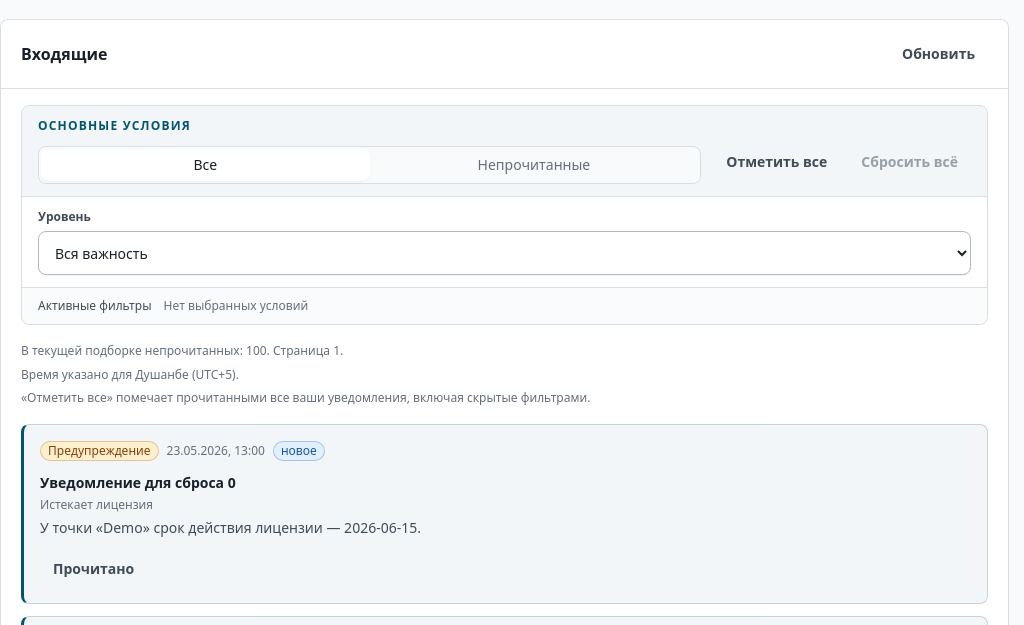
it: NotificationsPage › resets both quick filters and pagination together
Click the button "Непрочитанные". click: (534, 165)
box: x1=370 y1=149 x2=698 y2=181
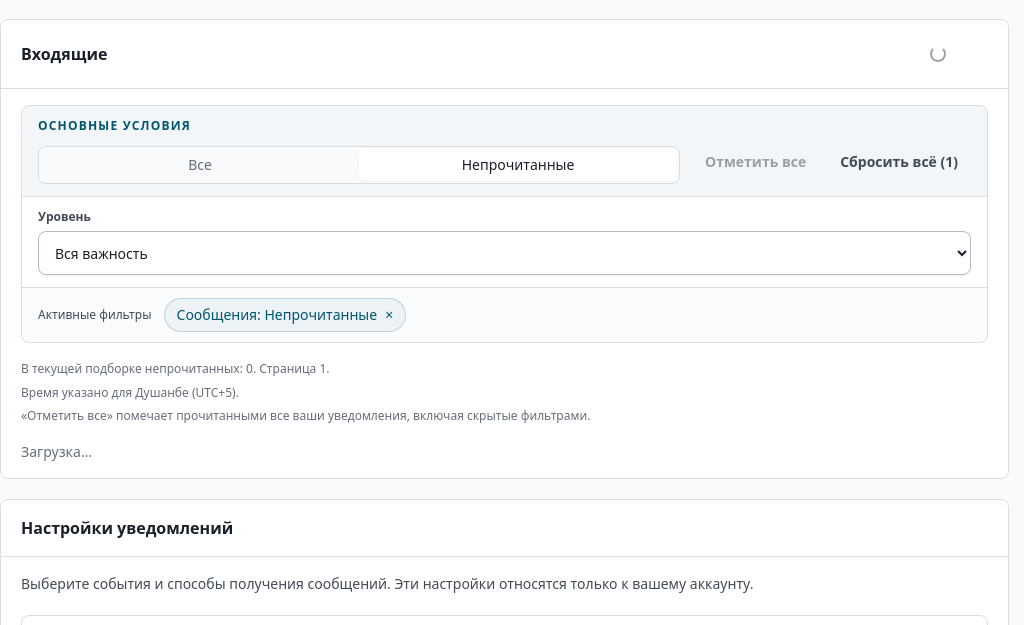
Select "Критическое" in the dropdown labelled "Уровень". click: (504, 253)
box: x1=38 y1=231 x2=971 y2=275
(page scrolled)
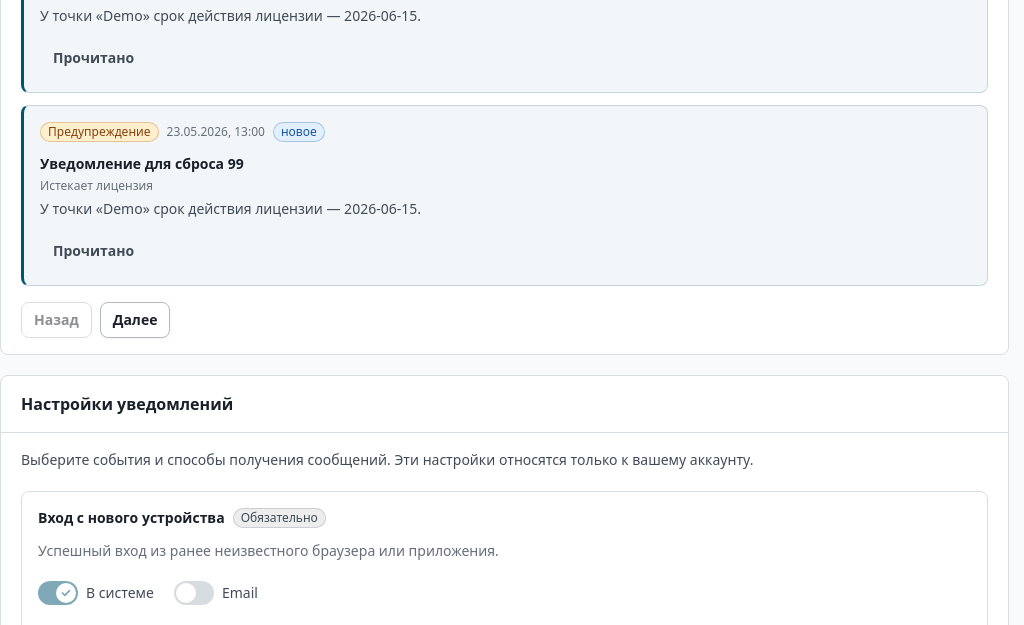
Check: the button "Далее" is enabled
Click the button "Далее". click: (135, 320)
box: x1=100 y1=302 x2=170 y2=338
(page scrolled)
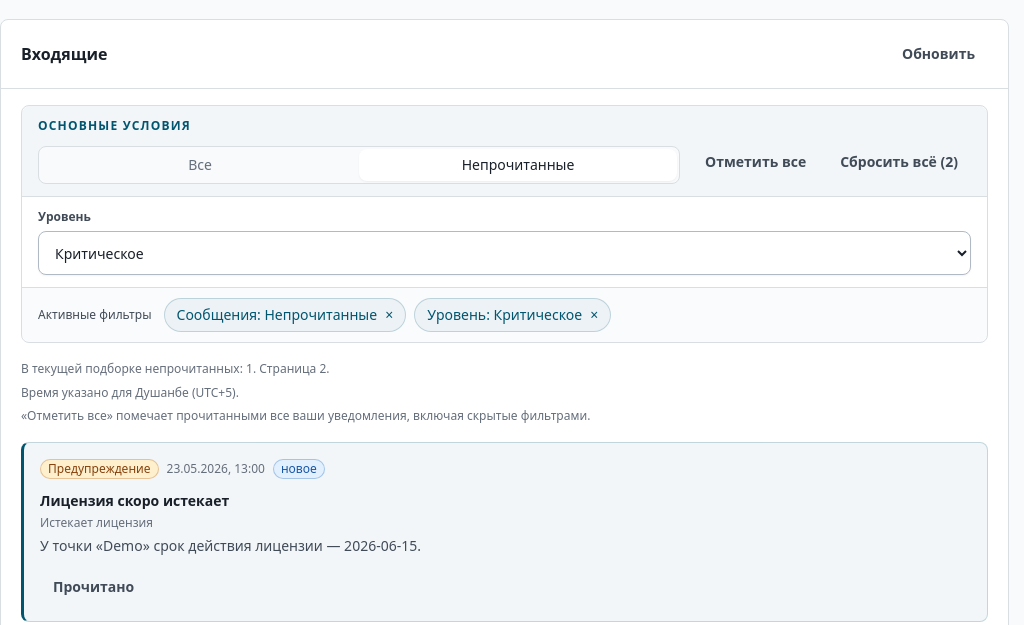
Check: the text "Лицензия скоро истекает" is shown, box x1=40 y1=490 x2=229 y2=510
Click the button "Сбросить всё (2)". click: (899, 162)
box: x1=827 y1=140 x2=971 y2=184
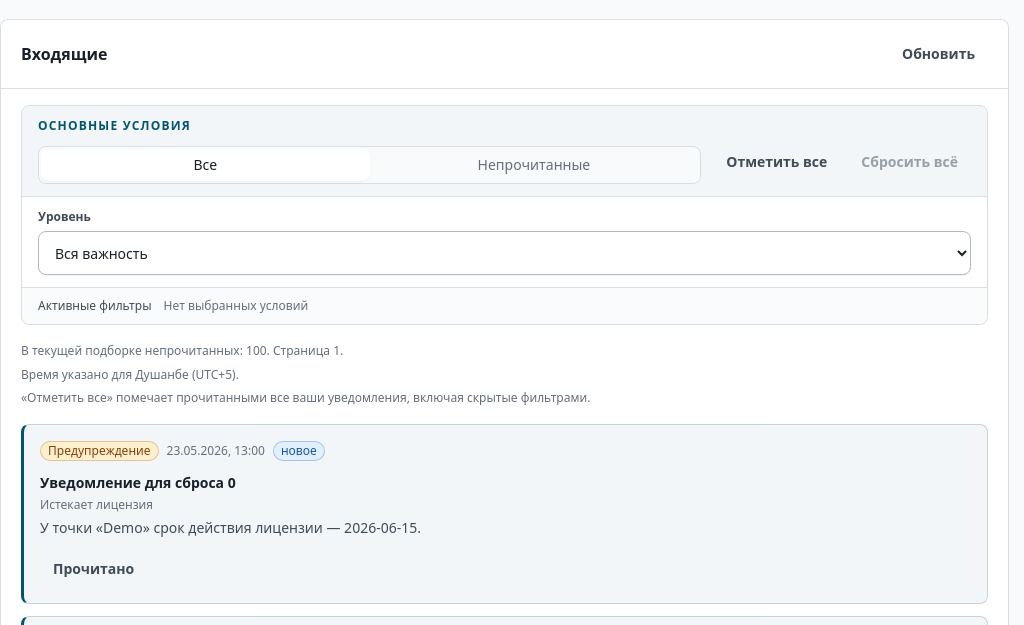
Check: the text "В текущей подборке непрочитанных: 100. Страница 1." is shown, box x1=21 y1=342 x2=343 y2=359
Check: the button "Сбросить всё" is disabled, box x1=848 y1=140 x2=971 y2=184
